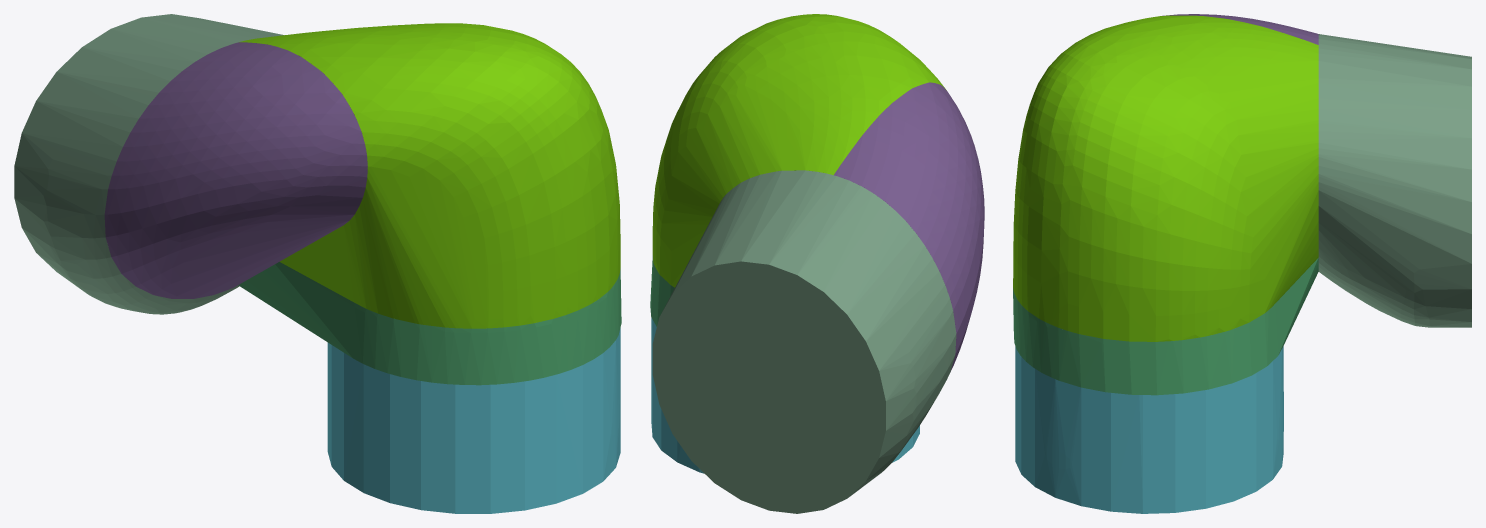
3 renders of one model, left to right at view 1: azimuth 30°, elevation 25°; view 2: azimuth 150°, elevation 25°; view 3: azimuth 270°, elevation 25°, orthographic. The views are drawn at different scales.
Parts seen in each view (by area): view 1: geometry_4, geometry_1, geometry_2, geometry_0, geometry_3; view 2: geometry_0, geometry_4, geometry_1, geometry_2, geometry_3; view 3: geometry_4, geometry_0, geometry_2, geometry_3, geometry_1.
Boxes of the visible parts, <box> form: geometry_4: <box>239,23,620,328</box>; geometry_1: <box>104,42,367,298</box>; geometry_2: <box>327,328,620,513</box>; geometry_0: <box>14,14,284,314</box>; geometry_3: <box>238,262,621,385</box>; geometry_0: <box>652,170,956,513</box>; geometry_4: <box>652,14,946,287</box>; geometry_1: <box>834,82,984,371</box>; geometry_2: <box>651,318,919,473</box>; geometry_3: <box>650,255,674,326</box>; geometry_4: <box>1013,15,1318,341</box>; geometry_0: <box>1318,34,1471,327</box>; geometry_2: <box>1015,346,1283,513</box>; geometry_3: <box>1013,258,1318,395</box>; geometry_1: <box>1162,14,1318,44</box>.
Size of the model in its own units: 0.1373 by 0.1363 by 0.1439.
